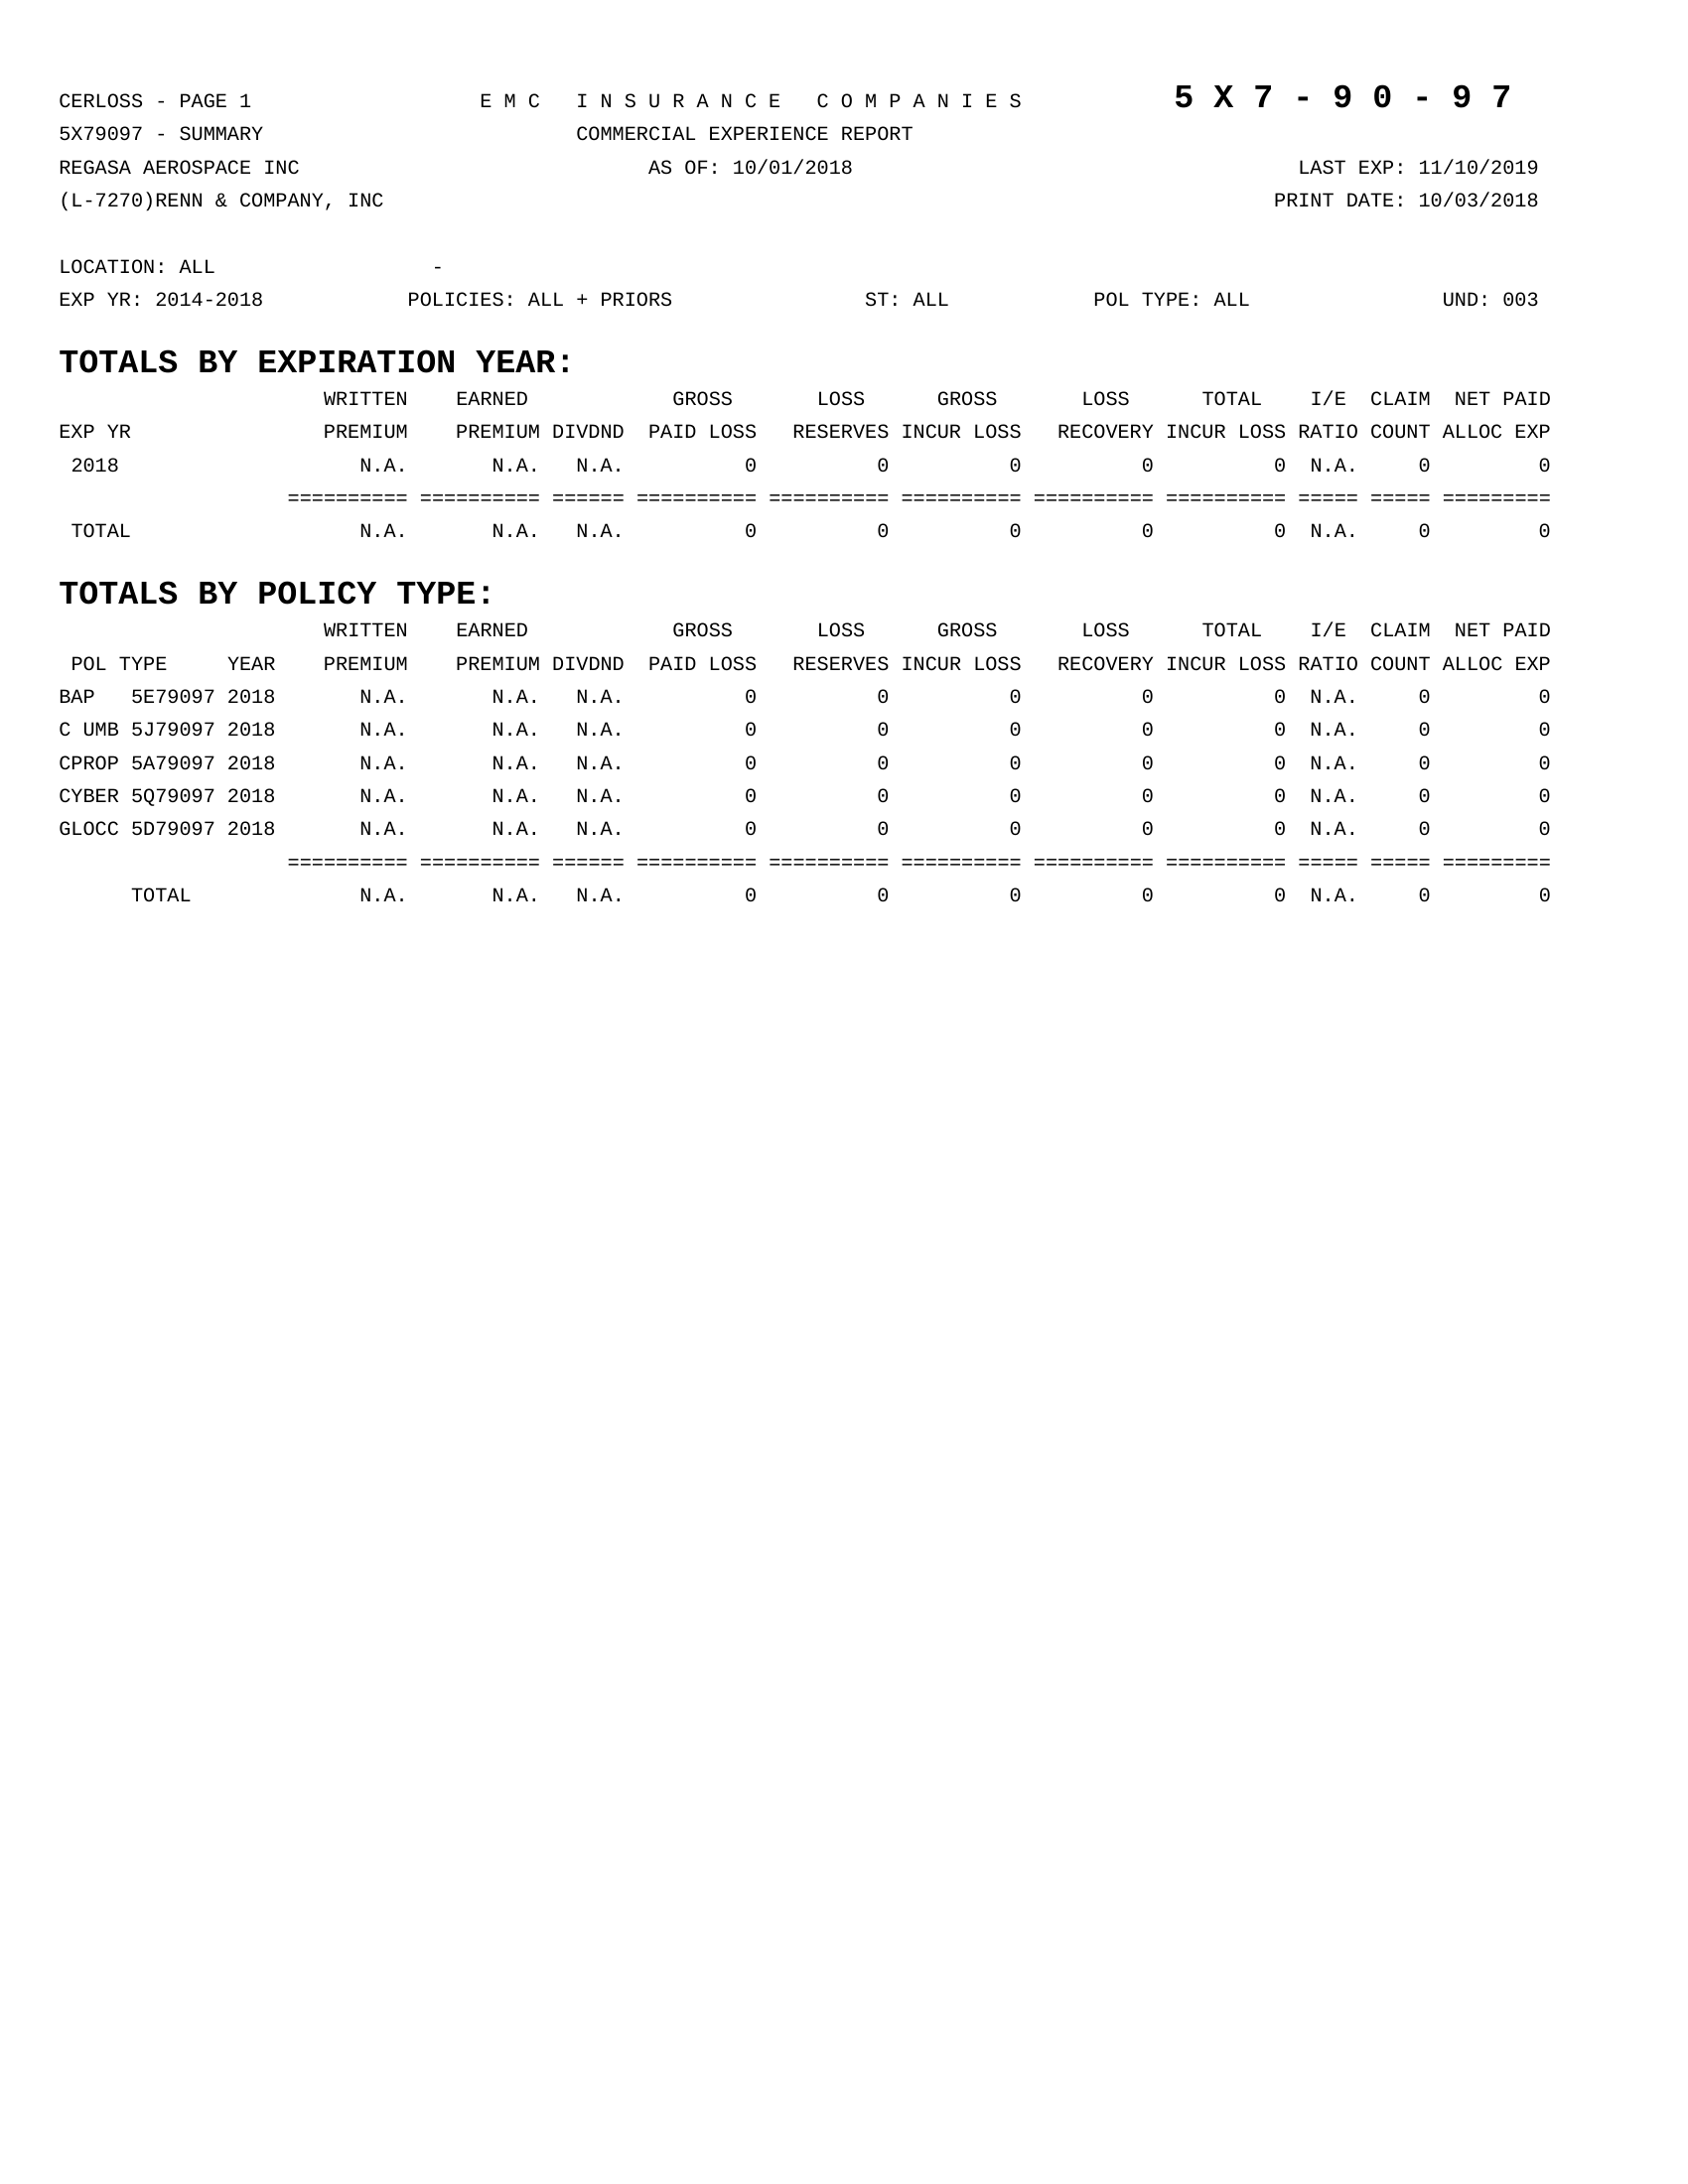No-loss: (39, 612, 1615, 948), (43, 379, 1608, 578)
